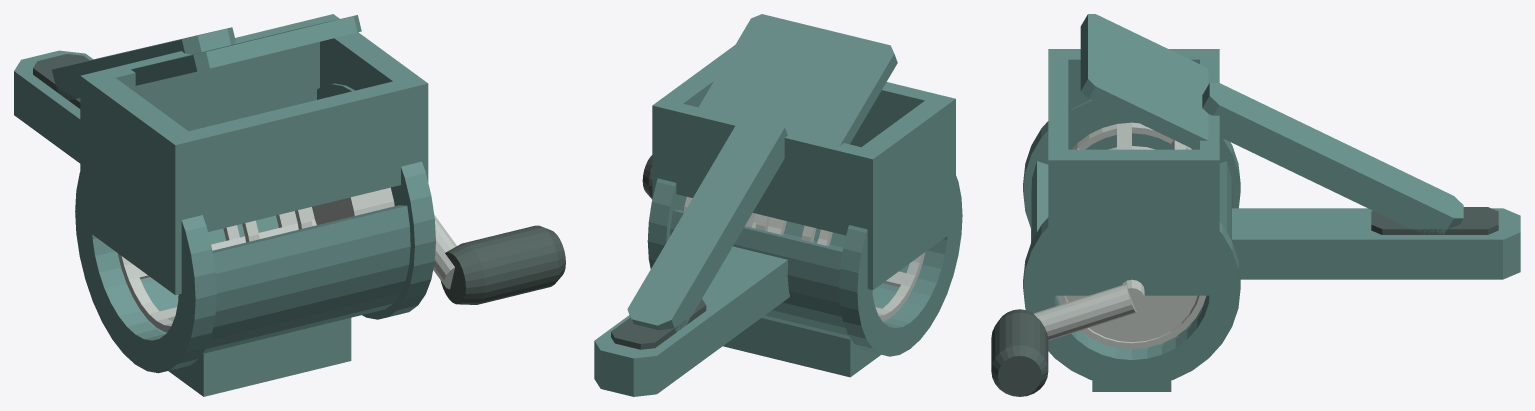
3 views of the same model, side by side, from view 1: azimuth 30°, elevation 25°; view 2: azimuth 150°, elevation 25°; view 3: azimuth 270°, elevation 25° (orthographic). The views are drawn at different scales.
Visible parts, largest first — view 1: WholeOpenUpperFeedHopper, WholeLowerOpenCradle, WholeEndBearingRim_-0.052, WholeLowerCradleFlatFoot, WholeCrankGrip, WholeEndBearingRim_0.052, WholeRaisedHopperPressurePlate, WholeRearHandGrip, WholeConnectedPerforatedOpenDrum, WholeRearPressureLever, WholeGripHeelInset, WholeSideCrankArm (+1 smaller); view 2: WholeOpenUpperFeedHopper, WholeRaisedHopperPressurePlate, WholeRearPressureLever, WholeRearHandGrip, WholeEndBearingRim_-0.052, WholeLowerOpenCradle, WholeLowerCradleFlatFoot, WholeConnectedPerforatedOpenDrum, WholeEndBearingRim_0.052, WholeGripHeelInset, WholeCrankGrip; view 3: WholeOpenUpperFeedHopper, WholeRearHandGrip, WholeRearPressureLever, WholeRaisedHopperPressurePlate, WholeEndBearingRim_0.052, WholeCrankGrip, WholeEndBearingRim_-0.052, WholeBackDrumDisc, WholeSideCrankArm, WholeConnectedPerforatedOpenDrum, WholeLowerOpenCradle, WholeGripHeelInset (+1 smaller).
Boxes of the visible parts, x1=… form: WholeOpenUpperFeedHopper: x1=80, y1=14, x2=428, y2=295; WholeLowerOpenCradle: x1=116, y1=205, x2=410, y2=353; WholeEndBearingRim_-0.052: x1=75, y1=172, x2=216, y2=373; WholeLowerCradleFlatFoot: x1=168, y1=318, x2=351, y2=396; WholeCrankGrip: x1=440, y1=225, x2=565, y2=304; WholeEndBearingRim_0.052: x1=317, y1=83, x2=435, y2=319; WholeRaisedHopperPressurePlate: x1=131, y1=15, x2=361, y2=85; WholeRearHandGrip: x1=14, y1=50, x2=93, y2=163; WholeConnectedPerforatedOpenDrum: x1=117, y1=187, x2=394, y2=332; WholeRearPressureLever: x1=52, y1=27, x2=235, y2=100; WholeGripHeelInset: x1=33, y1=54, x2=89, y2=108; WholeSideCrankArm: x1=433, y1=215, x2=456, y2=289; WholeOpenUpperFeedHopper: x1=652, y1=45, x2=955, y2=289; WholeRaisedHopperPressurePlate: x1=696, y1=14, x2=897, y2=145; WholeRearPressureLever: x1=627, y1=111, x2=787, y2=332; WholeRearHandGrip: x1=594, y1=246, x2=789, y2=396; WholeEndBearingRim_-0.052: x1=839, y1=176, x2=962, y2=356; WholeLowerOpenCradle: x1=670, y1=210, x2=926, y2=339; WholeLowerCradleFlatFoot: x1=723, y1=318, x2=880, y2=377; WholeConnectedPerforatedOpenDrum: x1=683, y1=197, x2=925, y2=321; WholeEndBearingRim_0.052: x1=647, y1=178, x2=685, y2=268; WholeGripHeelInset: x1=611, y1=299, x2=706, y2=349; WholeCrankGrip: x1=642, y1=155, x2=652, y2=199; WholeOpenUpperFeedHopper: x1=1048, y1=49, x2=1219, y2=295; WholeRearHandGrip: x1=1232, y1=208, x2=1520, y2=279; WholeRearPressureLever: x1=1202, y1=83, x2=1463, y2=234; WholeRaisedHopperPressurePlate: x1=1080, y1=14, x2=1208, y2=149; WholeEndBearingRim_0.052: x1=1023, y1=217, x2=1240, y2=387; WholeCrankGrip: x1=991, y1=309, x2=1048, y2=396; WholeEndBearingRim_-0.052: x1=1023, y1=100, x2=1240, y2=227; WholeBackDrumDisc: x1=1066, y1=295, x2=1197, y2=342; WholeSideCrankArm: x1=1033, y1=283, x2=1136, y2=340; WholeConnectedPerforatedOpenDrum: x1=1057, y1=122, x2=1206, y2=349; WholeLowerOpenCradle: x1=1031, y1=161, x2=1232, y2=350; WholeGripHeelInset: x1=1371, y1=207, x2=1498, y2=234.
Bounding box in the file's own units: 0.172 × 0.1572 × 0.241.
